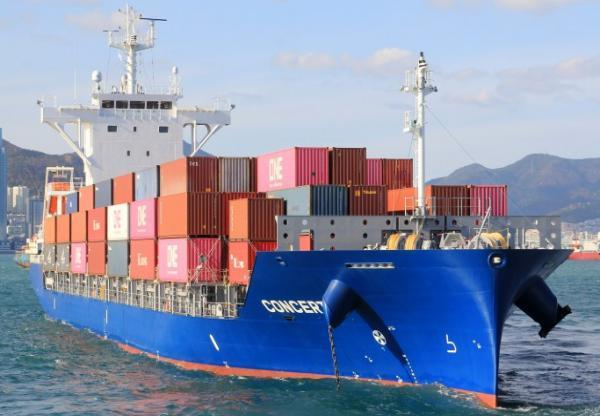Container Ship: (24, 3, 575, 409)
